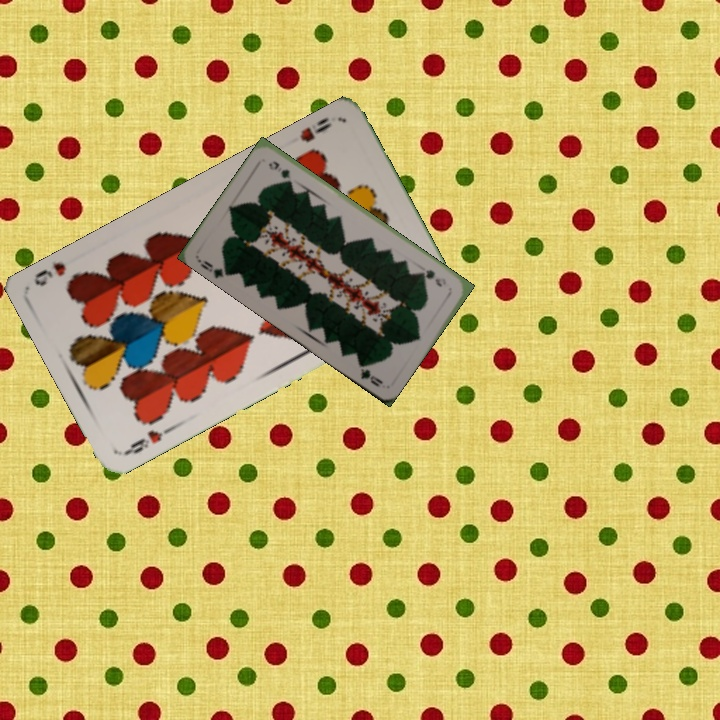G9: (194, 255, 232, 280), (416, 265, 449, 290)
H9: (121, 423, 176, 457), (296, 113, 335, 145)
